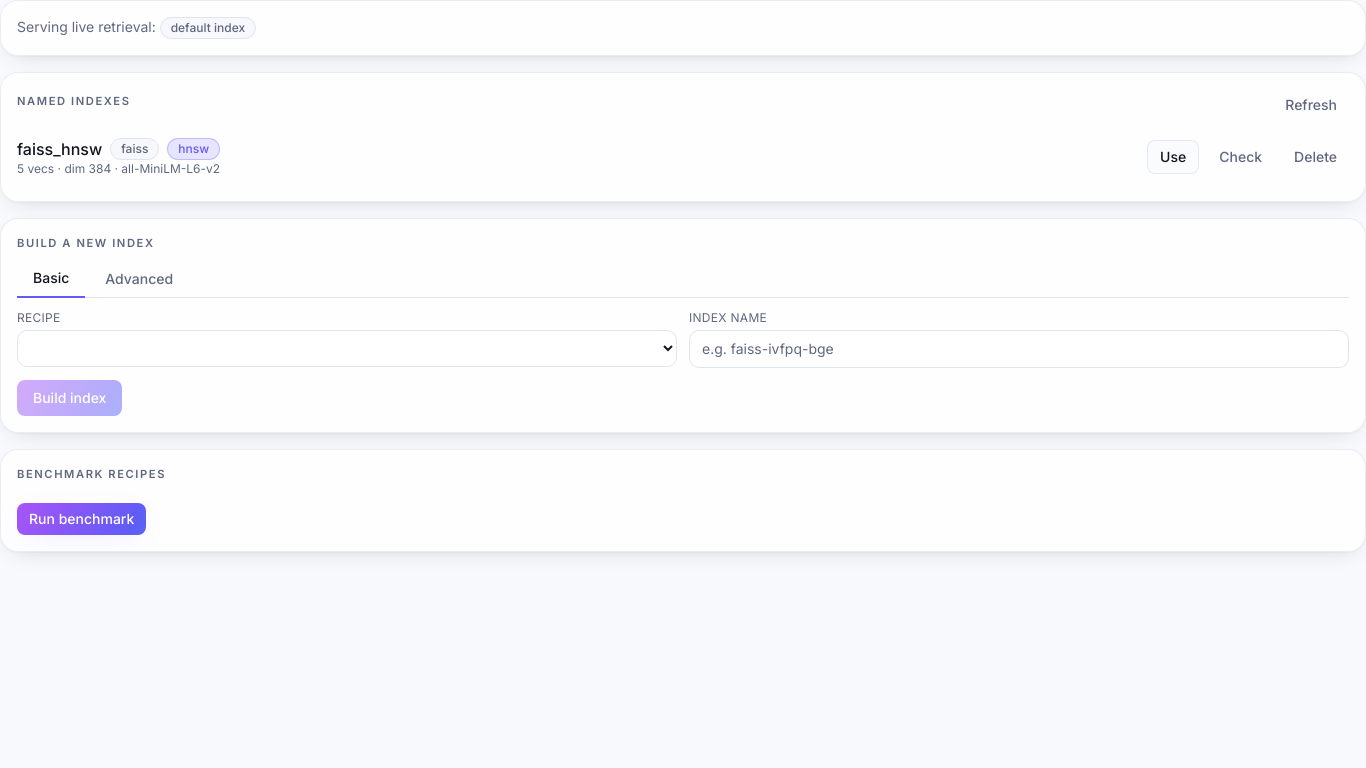
Test: IndexesTab (Phase 13) › surfaces the compatibility report when a switch returns 409
This screenshot has width=1366, height=768.
Step 1. Click the button "Use" → (1173, 157), box [1147,140,1199,174]
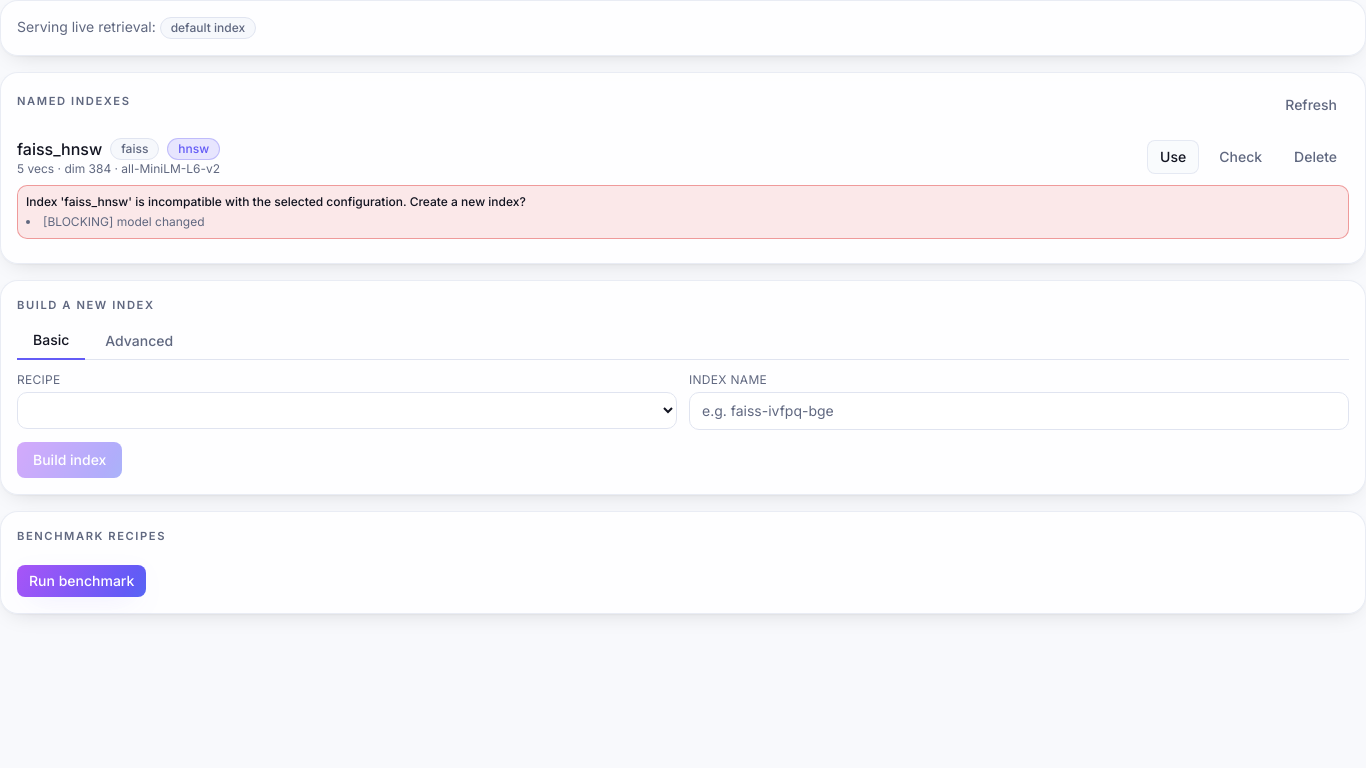
Result: the text "Create a new index?" is shown at [26,194,526,209]
Result: the list item "[blocking] model changed" is shown at [43,214,204,229]
